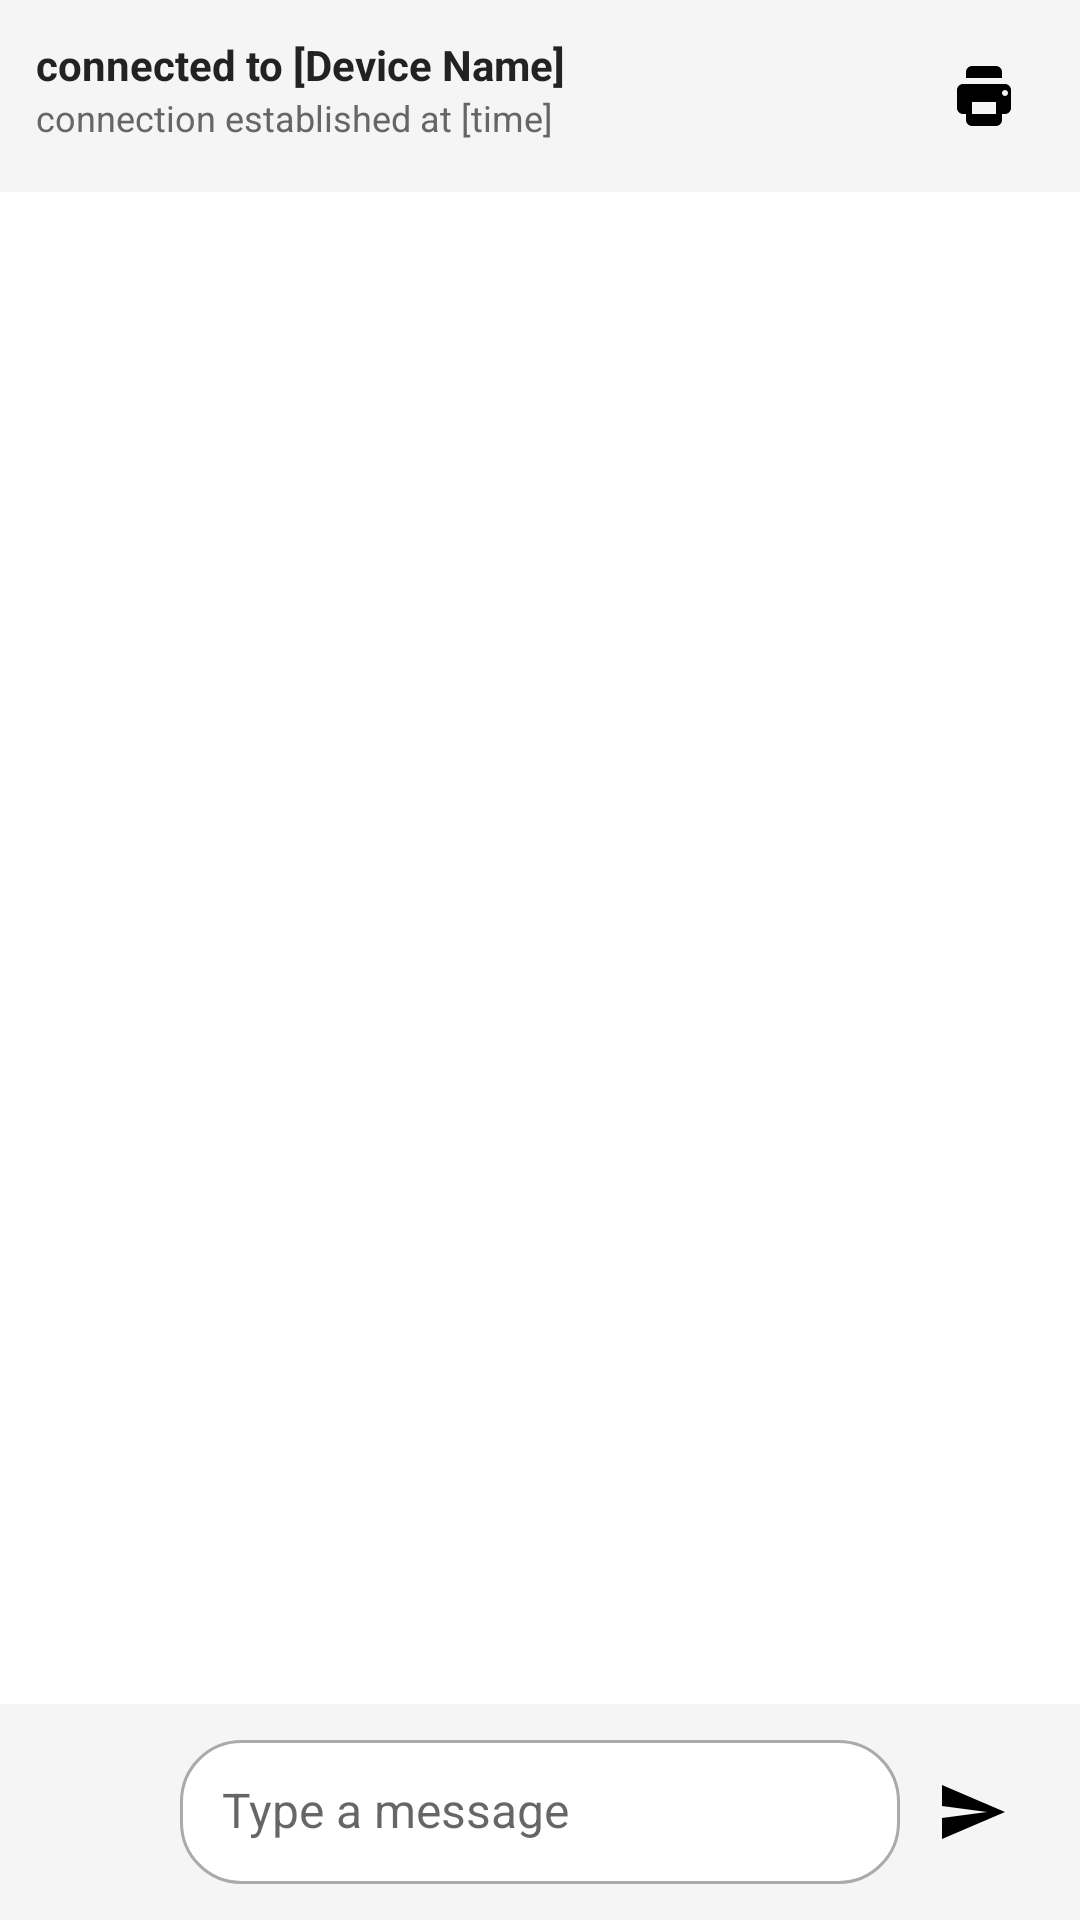

Icon bounding boxes for this 1080px x 1920px phone screenshot, format (x1, y1, x2, y2):
Print: (957, 66, 1011, 126)
Send: (942, 1785, 1005, 1839)
